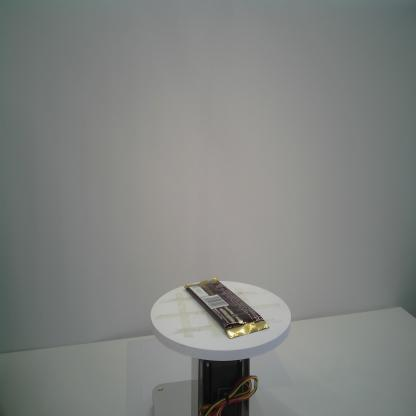Chocolate: (182, 274, 271, 342)
